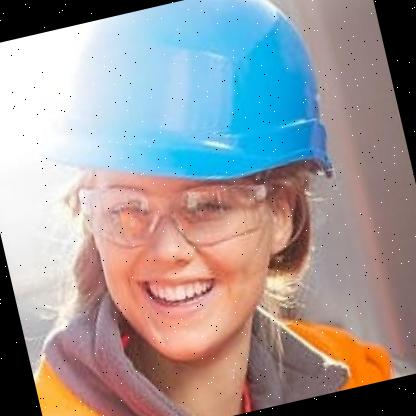capacete: (40, 0, 331, 211)
oculos: (63, 144, 272, 274)
